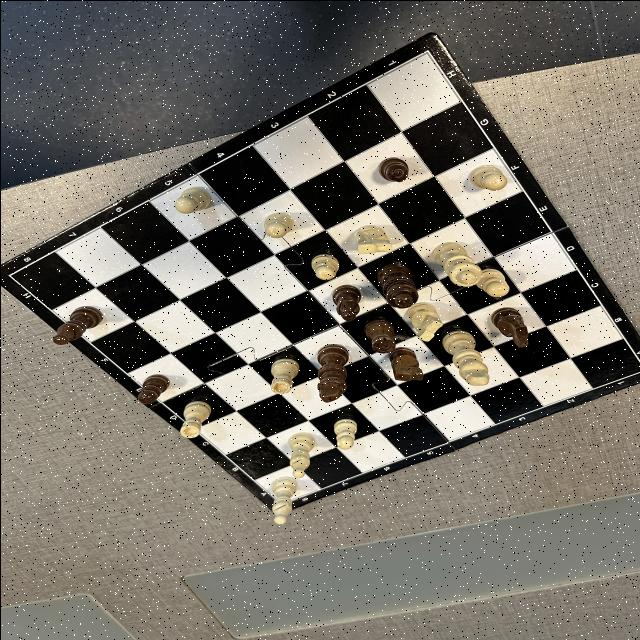Black-Bishop: (52, 305, 102, 344), (331, 284, 361, 320)
Black-King: (316, 342, 348, 402)
Black-Knight: (490, 306, 528, 347), (387, 346, 423, 380)
Black-Pawn: (137, 373, 169, 403), (377, 156, 408, 182)
Black-Queen: (376, 262, 418, 308)
Black-Rook: (362, 318, 394, 352)
White-Bishop: (270, 476, 296, 524), (288, 432, 314, 478)
White-King: (441, 330, 489, 386)
White-Knight: (407, 301, 442, 341), (352, 224, 392, 254)
White-Pawn: (468, 164, 507, 190), (173, 186, 210, 213), (476, 268, 508, 296), (262, 212, 294, 238), (332, 418, 357, 448), (310, 253, 338, 279)
White-Queen: (432, 240, 482, 286)
White-Rook: (178, 400, 210, 438), (270, 357, 298, 393)
